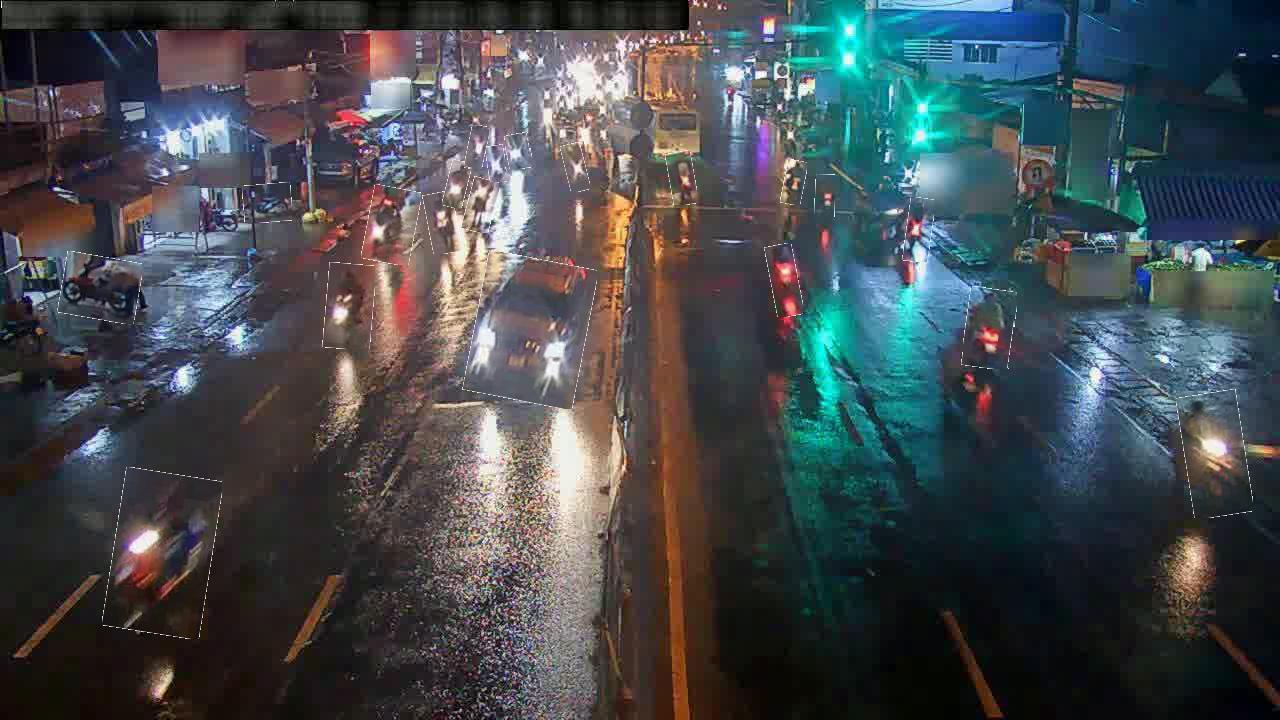container: (469, 255, 592, 406)
motorbike: (108, 471, 218, 637), (1180, 391, 1250, 518), (60, 254, 141, 322), (324, 263, 375, 350), (365, 186, 419, 265), (964, 288, 1016, 369), (768, 244, 801, 318), (425, 191, 460, 254), (243, 183, 293, 223), (904, 198, 933, 263), (464, 178, 497, 233), (667, 151, 696, 206), (563, 143, 589, 193), (445, 160, 470, 209), (782, 160, 806, 206), (814, 174, 836, 221), (466, 126, 488, 170), (506, 133, 532, 170), (487, 145, 507, 183)
